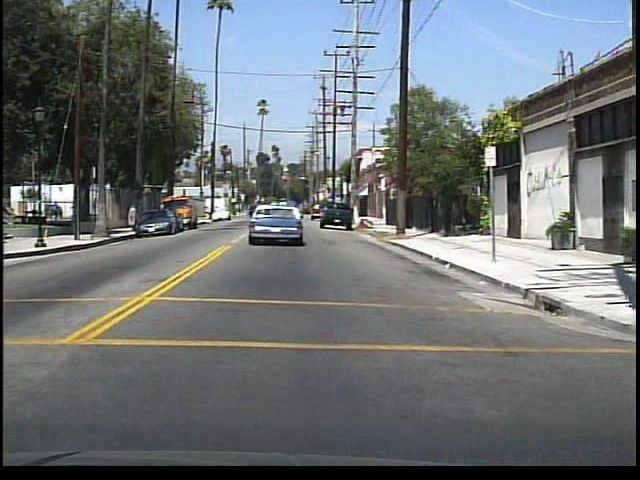person: (90, 196, 104, 222), (128, 200, 139, 230), (49, 199, 63, 222)
